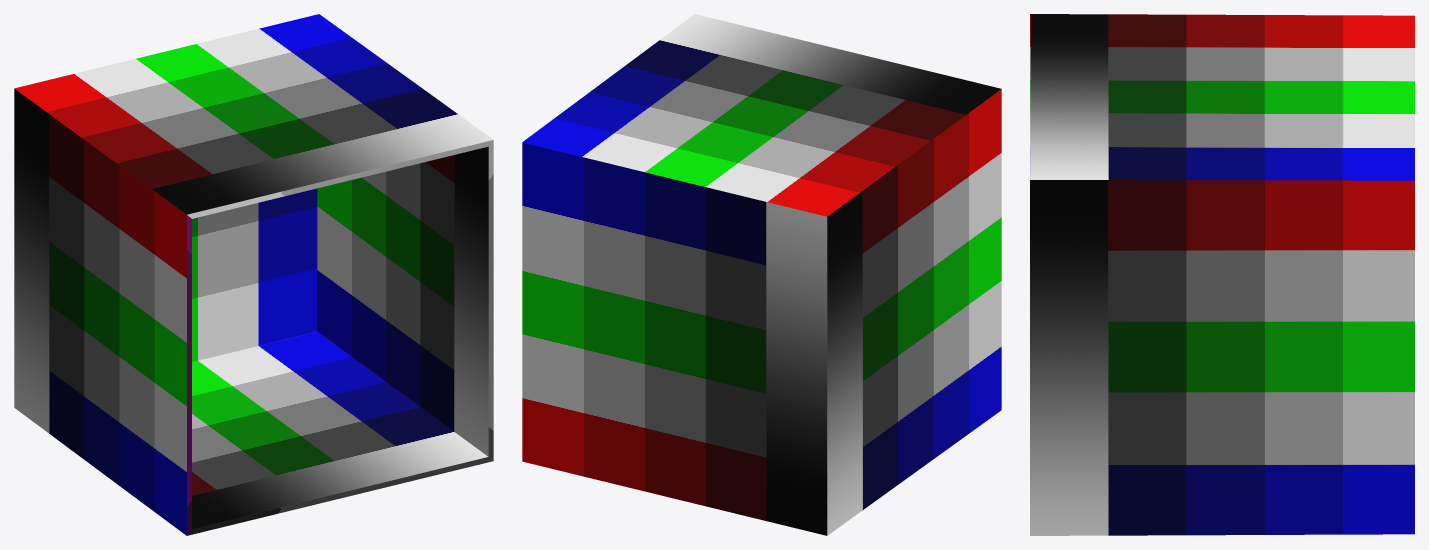
The model's file is color.obj.
3 views of the same model, side by side, from view 1: azimuth 30°, elevation 25°; view 2: azimuth 150°, elevation 25°; view 3: azimuth 270°, elevation 25° (orthographic). The views are drawn at different scales.
Visible parts, largest first — view 1: Cube_main; view 2: Cube_main; view 3: Cube_main.
Part boxes in pixels (x1=…): Cube_main: x1=14, y1=14, x2=493, y2=535; Cube_main: x1=522, y1=14, x2=1001, y2=535; Cube_main: x1=1030, y1=14, x2=1414, y2=535.
Bounding box in the file's own units: 2.07 × 2.07 × 2.03.
